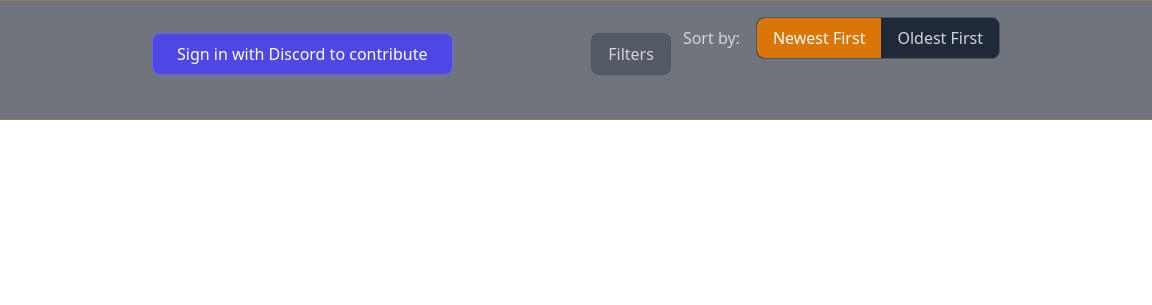
Test: ArchivesToolbar › handles user interactions › should toggle filters panel when filters button is clicked
Click the button "Filters": (631, 54) [591, 33, 671, 75]
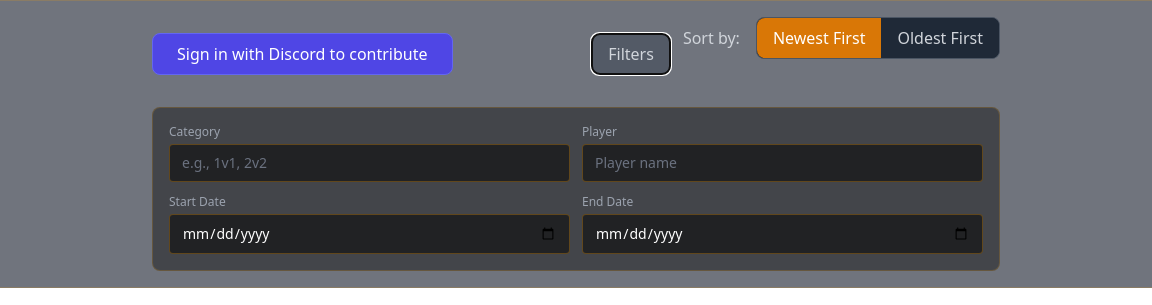
expect the field with placeholder "e.g., 1v1, 2v2" is shown: met, box [169, 144, 570, 182]
